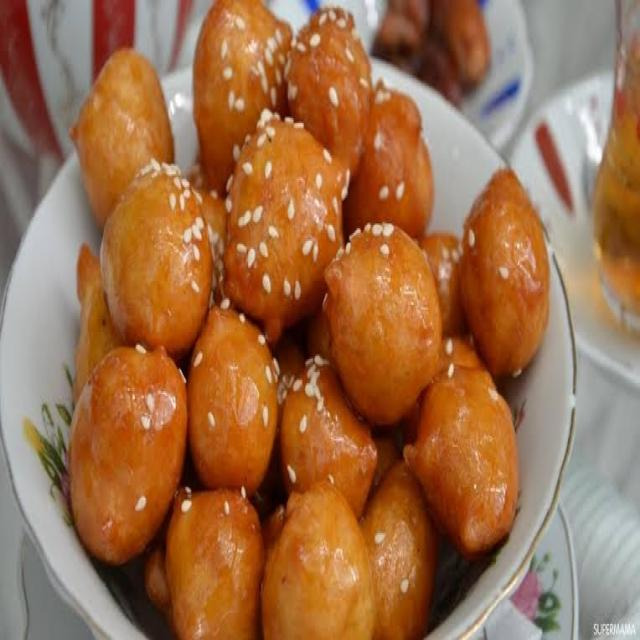Luqaimat: (83, 57, 471, 610)
